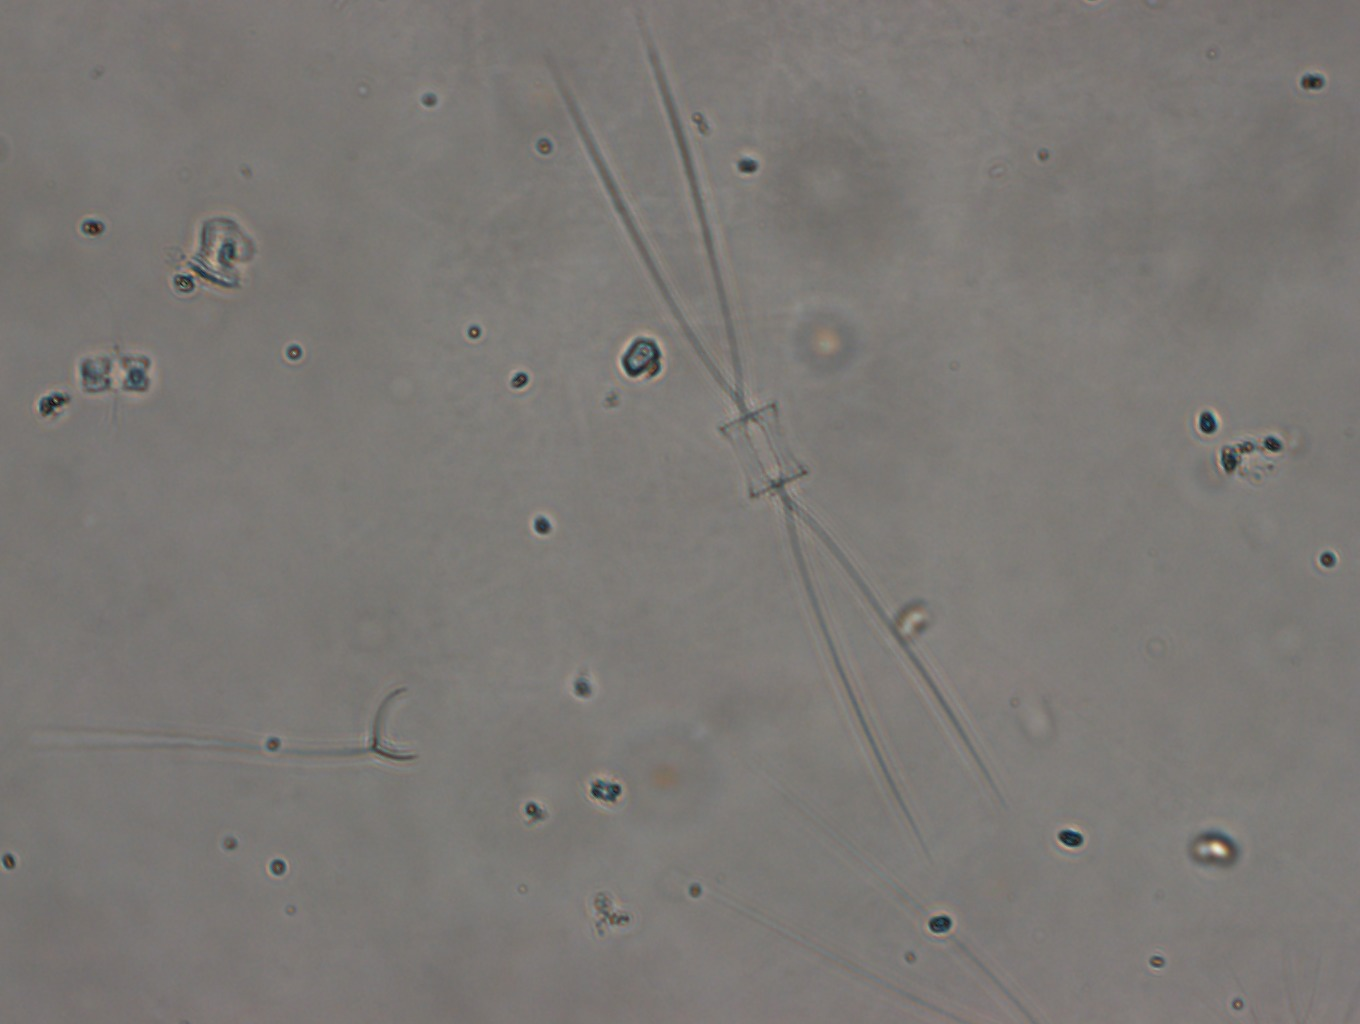chaetoceros: (546, 11, 1007, 853)
